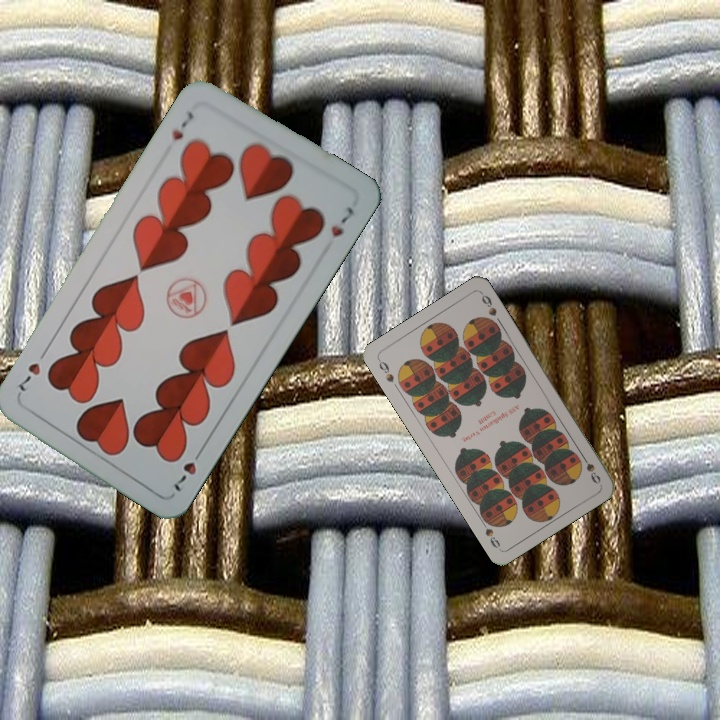H7: (168, 443, 207, 495), (167, 107, 197, 143)
S9: (576, 449, 603, 487), (374, 355, 397, 385)
